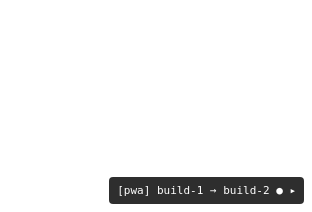
Test: PwaUpdateDebugPanel › readiness gate › renders 'in-progress' transition when state is valid
Click the button at (207, 190), box [117, 183, 296, 198]
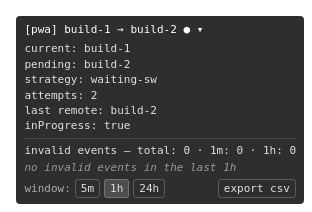
Expected: the text "strategy: waiting-sw" is shown, [24, 73, 157, 86]
Expected: the text "attempts: 2" is shown, [24, 89, 97, 102]
Expected: the text "inProgress: true" is shown, [24, 119, 130, 132]
